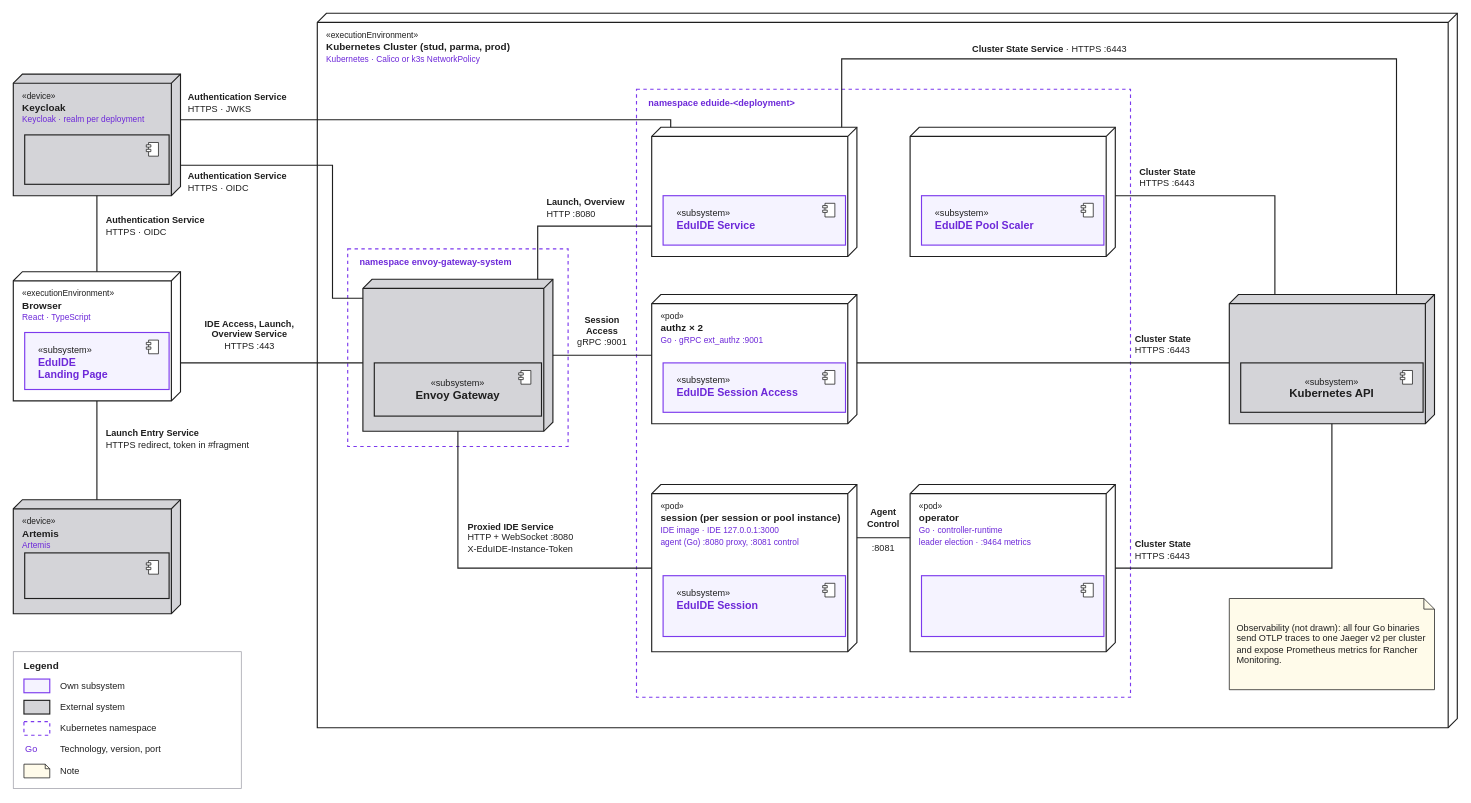
Image size: 1471x803. Some labels were removed from this diagram. Here are the shapes that lost their labels. From the top down, the box of each, then its label:
(24, 134, 169, 185): «subsystem» Identity Provider
(651, 126, 857, 257): «pod» service × 2 Go · :8080 REST v1, SSE
(909, 126, 1116, 257): «pod» pool-scaler Go · :9090 metrics
(362, 278, 553, 432): «pod» envoy Envoy Gateway ≥ v1.8 · :443 SecurityPolicy (OIDC, ext_authz)
(1228, 294, 1435, 424): «executionEnvironment» kube-apiserver Kubernetes · :6443
(24, 552, 169, 599): «subsystem» Artemis
(921, 575, 1104, 637): «subsystem» EduIDE Operator
